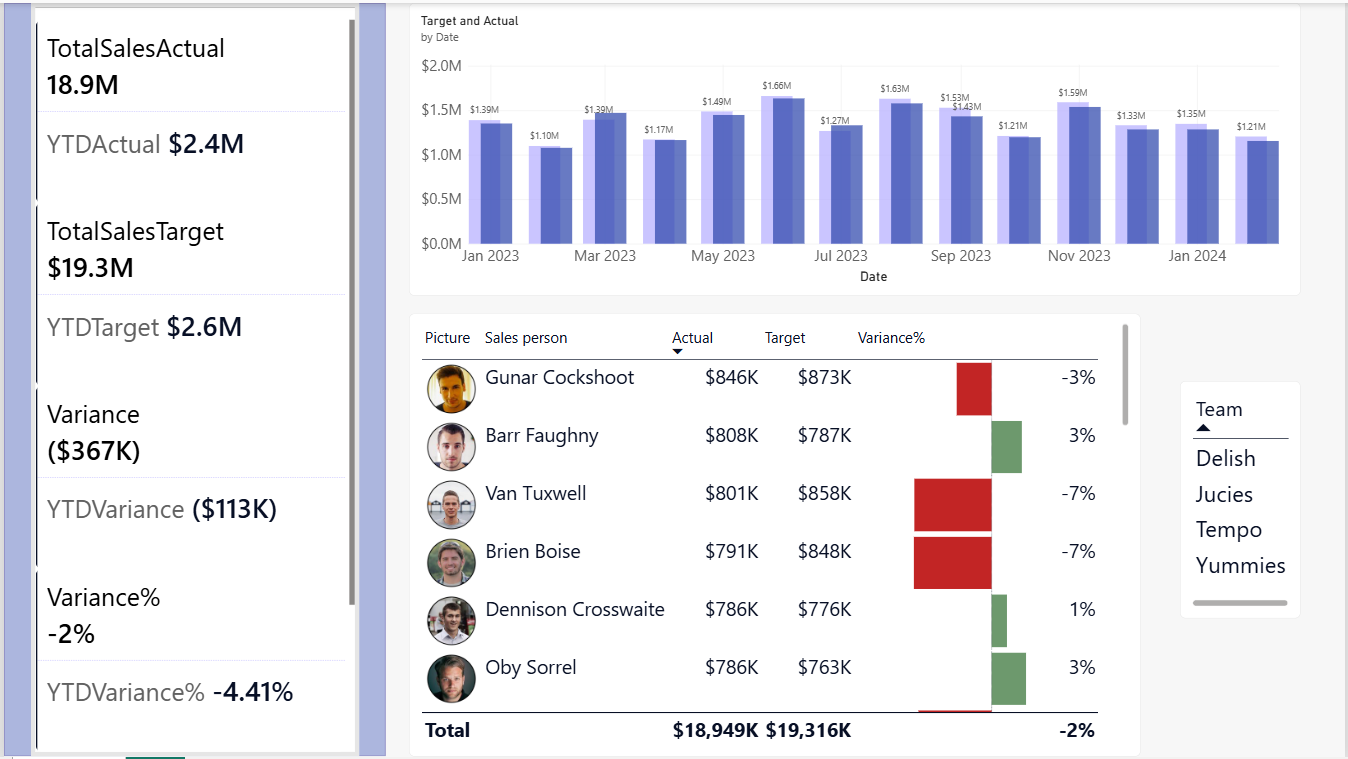

What the dashboard file says about the page in this screenshot:
{"tool":"powerbi","page":{"name":"Page 1","canvas":[1920,1080],"ordinal":0},"visuals":[{"type":"shape","box":[0,0,546.5,1078.9],"z":0},{"type":"cardVisual","fields":{"Data":["Actual.TotalSalesActual","Targets.TotalSalesTarget","Actual.Variance","Actual.Variance%","Actual.Months Target Reached"]},"box":[39.6,0,470.1,1078.9],"z":1000},{"type":"clusteredColumnChart","fields":{"Category":["Calendar.Date"],"Y":["Targets.TotalSalesTarget","Actual.TotalSalesActual"]},"box":[580.5,0,1277.2,419.1],"z":2000},{"type":"tableEx","fields":{"Values":["dimPeople.Team"]},"box":[1685,540.9,172.7,339.8],"z":3000},{"type":"tableEx","fields":{"Values":["dimPeople.Picture","dimPeople.Sales person","Actual.TotalSalesActual","Targets.TotalSalesTarget","Actual.Variance%"]},"box":[580.5,444.6,1047.8,634.3],"z":4000}]}

Visuals, with their boxes in screenshot pixels (x1, y1, x2, y2), scaled from the page's 1920x1080 canvas onto the 1348x759 screenshot:
shape: 0, 0, 384, 758
cardVisual - Actual.TotalSalesActual x Targets.TotalSalesTarget: 28, 0, 358, 758
clusteredColumnChart - Calendar.Date x Targets.TotalSalesTarget: 408, 0, 1304, 295
tableEx - dimPeople.Team: 1183, 380, 1304, 619
tableEx - dimPeople.Picture x dimPeople.Sales person: 408, 312, 1143, 758
